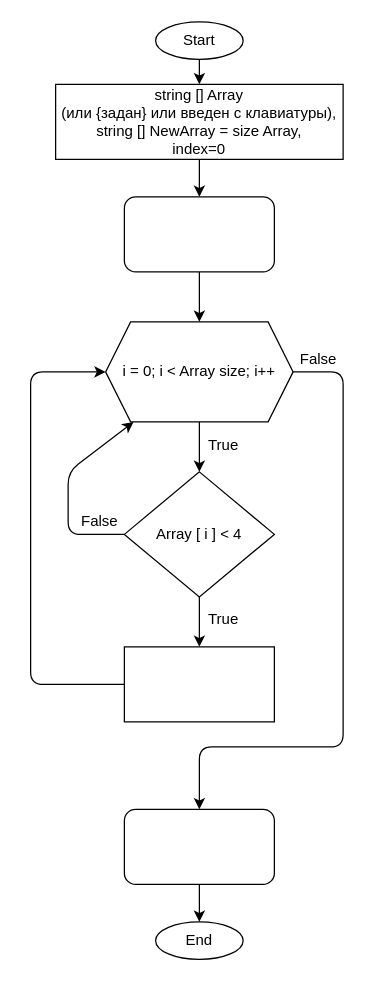
Image size: 375x981. Some labels were removed from this diagram. Here are the shapes that lost their labels. From the top down, the centre of each, then its label:
(198,234): All
(198,684): NewArray [ index ] = Array [ i ]
(198,846): PrintArray
